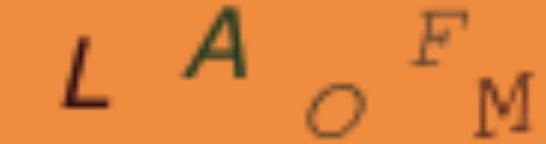A: (180, 4, 252, 82)
F: (408, 5, 475, 68)
L: (61, 33, 112, 111)
M: (472, 70, 538, 143)
O: (301, 80, 366, 140)
